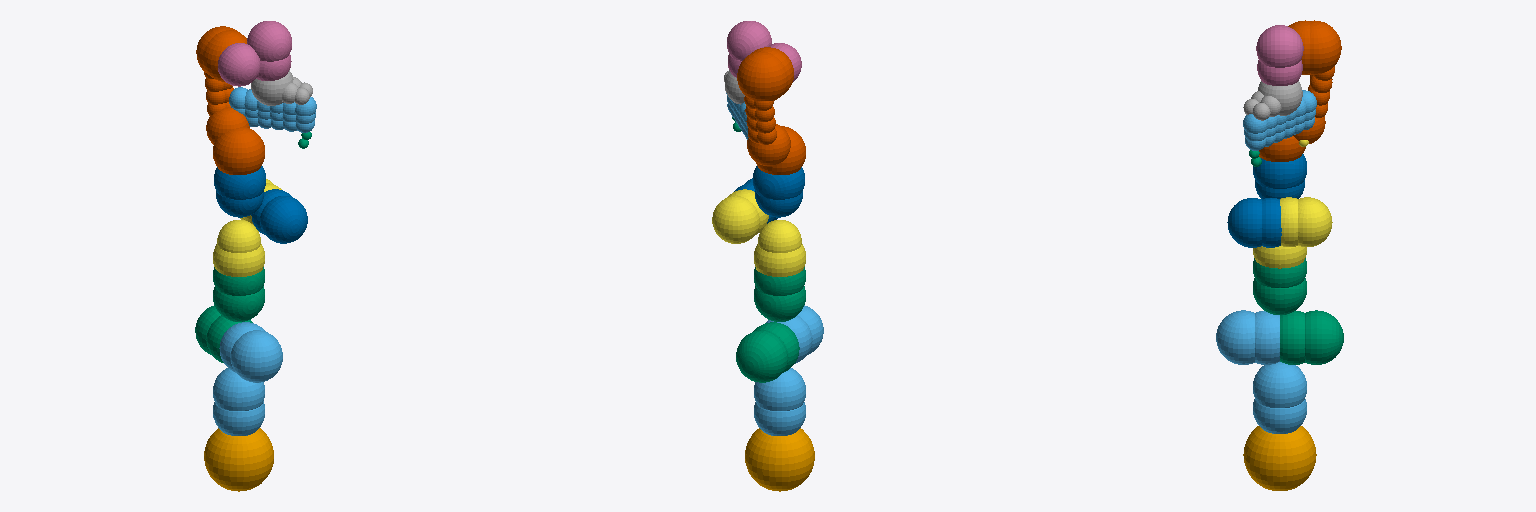
The robot description file, URDF, robot "panda":
<?xml version='1.0' encoding='utf-8'?>
<robot name="panda" path="assets/panda/panda.urdf">
	<link name="panda_link0">
		<inertial>
			<origin rpy="0 0 0" xyz="0 0 0.05" />
			<mass value="2.9" />
			<inertia ixx="0.1" ixy="0" ixz="0" iyy="0.1" iyz="0" izz="0.1" />
		</inertial>
		<collision>
			<geometry>
				<sphere radius="0.08" />
			</geometry>
			<origin xyz="0.0 0.0 0.05" rpy="0 0 0" />
		</collision>
	<visual name="panda_link0_visual_1">
			<geometry>
				<sphere radius="0.08" />
			</geometry>
			<origin xyz="0.0 0.0 0.05" rpy="0 0 0" />
		</visual>
	</link>
	<link name="panda_link1">
		<inertial>
			<origin rpy="0 0 0" xyz="0 -0.04 -0.05" />
			<mass value="2.7" />
			<inertia ixx="0.1" ixy="0" ixz="0" iyy="0.1" iyz="0" izz="0.1" />
		</inertial>
		<collision>
			<geometry>
				<sphere radius="0.06" />
			</geometry>
			<origin xyz="0.0 -0.08 0.0" rpy="0 0 0" />
		</collision>
		<collision>
			<geometry>
				<sphere radius="0.06" />
			</geometry>
			<origin xyz="0.0 -0.03 0.0" rpy="0 0 0" />
		</collision>
		<collision>
			<geometry>
				<sphere radius="0.06" />
			</geometry>
			<origin xyz="0.0 0.0 -0.12" rpy="0 0 0" />
		</collision>
		<collision>
			<geometry>
				<sphere radius="0.06" />
			</geometry>
			<origin xyz="0.0 0.0 -0.17" rpy="0 0 0" />
		</collision>
	<visual name="panda_link1_visual_1">
			<geometry>
				<sphere radius="0.06" />
			</geometry>
			<origin xyz="0.0 -0.08 0.0" rpy="0 0 0" />
		</visual>
		<visual name="panda_link1_visual_2">
			<geometry>
				<sphere radius="0.06" />
			</geometry>
			<origin xyz="0.0 -0.03 0.0" rpy="0 0 0" />
		</visual>
		<visual name="panda_link1_visual_3">
			<geometry>
				<sphere radius="0.06" />
			</geometry>
			<origin xyz="0.0 0.0 -0.12" rpy="0 0 0" />
		</visual>
		<visual name="panda_link1_visual_4">
			<geometry>
				<sphere radius="0.06" />
			</geometry>
			<origin xyz="0.0 0.0 -0.17" rpy="0 0 0" />
		</visual>
	</link>
	<link name="panda_link2">
		<inertial>
			<origin rpy="0 0 0" xyz="0 -0.04 0.06" />
			<mass value="2.73" />
			<inertia ixx="0.1" ixy="0" ixz="0" iyy="0.1" iyz="0" izz="0.1" />
		</inertial>
		<collision>
			<geometry>
				<sphere radius="0.06" />
			</geometry>
			<origin xyz="0.0 0.0 0.03" rpy="0 0 0" />
		</collision>
		<collision>
			<geometry>
				<sphere radius="0.06" />
			</geometry>
			<origin xyz="0.0 0.0 0.08" rpy="0 0 0" />
		</collision>
		<collision>
			<geometry>
				<sphere radius="0.06" />
			</geometry>
			<origin xyz="0.0 -0.12 0.0" rpy="0 0 0" />
		</collision>
		<collision>
			<geometry>
				<sphere radius="0.06" />
			</geometry>
			<origin xyz="0.0 -0.17 0.0" rpy="0 0 0" />
		</collision>
	<visual name="panda_link2_visual_1">
			<geometry>
				<sphere radius="0.06" />
			</geometry>
			<origin xyz="0.0 0.0 0.03" rpy="0 0 0" />
		</visual>
		<visual name="panda_link2_visual_2">
			<geometry>
				<sphere radius="0.06" />
			</geometry>
			<origin xyz="0.0 0.0 0.08" rpy="0 0 0" />
		</visual>
		<visual name="panda_link2_visual_3">
			<geometry>
				<sphere radius="0.06" />
			</geometry>
			<origin xyz="0.0 -0.12 0.0" rpy="0 0 0" />
		</visual>
		<visual name="panda_link2_visual_4">
			<geometry>
				<sphere radius="0.06" />
			</geometry>
			<origin xyz="0.0 -0.17 0.0" rpy="0 0 0" />
		</visual>
	</link>
	<link name="panda_link3">
		<inertial>
			<origin rpy="0 0 0" xyz="0.01 0.01 -0.05" />
			<mass value="2.04" />
			<inertia ixx="0.1" ixy="0" ixz="0" iyy="0.1" iyz="0" izz="0.1" />
		</inertial>
		<collision>
			<geometry>
				<sphere radius="0.06" />
			</geometry>
			<origin xyz="0.0 0.0 -0.1" rpy="0 0 0" />
		</collision>
		<collision>
			<geometry>
				<sphere radius="0.05" />
			</geometry>
			<origin xyz="0.0 0.0 -0.06" rpy="0 0 0" />
		</collision>
		<collision>
			<geometry>
				<sphere radius="0.055" />
			</geometry>
			<origin xyz="0.08 0.06 0.0" rpy="0 0 0" />
		</collision>
		<collision>
			<geometry>
				<sphere radius="0.055" />
			</geometry>
			<origin xyz="0.08 0.02 0.0" rpy="0 0 0" />
		</collision>
	<visual name="panda_link3_visual_1">
			<geometry>
				<sphere radius="0.06" />
			</geometry>
			<origin xyz="0.0 0.0 -0.1" rpy="0 0 0" />
		</visual>
		<visual name="panda_link3_visual_2">
			<geometry>
				<sphere radius="0.05" />
			</geometry>
			<origin xyz="0.0 0.0 -0.06" rpy="0 0 0" />
		</visual>
		<visual name="panda_link3_visual_3">
			<geometry>
				<sphere radius="0.055" />
			</geometry>
			<origin xyz="0.08 0.06 0.0" rpy="0 0 0" />
		</visual>
		<visual name="panda_link3_visual_4">
			<geometry>
				<sphere radius="0.055" />
			</geometry>
			<origin xyz="0.08 0.02 0.0" rpy="0 0 0" />
		</visual>
	</link>
	<link name="panda_link4">
		<inertial>
			<origin rpy="0 0 0" xyz="-0.03 0.03 0.02" />
			<mass value="2.08" />
			<inertia ixx="0.1" ixy="0" ixz="0" iyy="0.1" iyz="0" izz="0.1" />
		</inertial>
		<collision>
			<geometry>
				<sphere radius="0.06" />
			</geometry>
			<origin xyz="-0.08 0.095 0.0" rpy="0 0 0" />
		</collision>
		<collision>
			<geometry>
				<sphere radius="0.055" />
			</geometry>
			<origin xyz="0.0 0.0 0.02" rpy="0 0 0" />
		</collision>
		<collision>
			<geometry>
				<sphere radius="0.055" />
			</geometry>
			<origin xyz="0.0 0.0 0.06" rpy="0 0 0" />
		</collision>
		<collision>
			<geometry>
				<sphere radius="0.055" />
			</geometry>
			<origin xyz="-0.08 0.06 0.0" rpy="0 0 0" />
		</collision>
	<visual name="panda_link4_visual_1">
			<geometry>
				<sphere radius="0.06" />
			</geometry>
			<origin xyz="-0.08 0.095 0.0" rpy="0 0 0" />
		</visual>
		<visual name="panda_link4_visual_2">
			<geometry>
				<sphere radius="0.055" />
			</geometry>
			<origin xyz="0.0 0.0 0.02" rpy="0 0 0" />
		</visual>
		<visual name="panda_link4_visual_3">
			<geometry>
				<sphere radius="0.055" />
			</geometry>
			<origin xyz="0.0 0.0 0.06" rpy="0 0 0" />
		</visual>
		<visual name="panda_link4_visual_4">
			<geometry>
				<sphere radius="0.055" />
			</geometry>
			<origin xyz="-0.08 0.06 0.0" rpy="0 0 0" />
		</visual>
	</link>
	<link name="panda_link5">
		<inertial>
			<origin rpy="0 0 0" xyz="0 0.04 -0.12" />
			<mass value="3" />
			<inertia ixx="0.1" ixy="0" ixz="0" iyy="0.1" iyz="0" izz="0.1" />
		</inertial>
		<collision>
			<geometry>
				<sphere radius="0.06" />
			</geometry>
			<origin xyz="0.0 0.055 0.0" rpy="0 0 0" />
		</collision>
		<collision>
			<geometry>
				<sphere radius="0.06" />
			</geometry>
			<origin xyz="0.0 0.075 0.0" rpy="0 0 0" />
		</collision>
		<collision>
			<geometry>
				<sphere radius="0.06" />
			</geometry>
			<origin xyz="0.0 0.0 -0.22" rpy="0 0 0" />
		</collision>
		<collision>
			<geometry>
				<sphere radius="0.05" />
			</geometry>
			<origin xyz="0.0 0.05 -0.18" rpy="0 0 0" />
		</collision>
		<collision>
			<geometry>
				<sphere radius="0.025" />
			</geometry>
			<origin xyz="0.01 0.08 -0.14" rpy="0 0 0" />
		</collision>
		<collision>
			<geometry>
				<sphere radius="0.025" />
			</geometry>
			<origin xyz="0.01 0.085 -0.11" rpy="0 0 0" />
		</collision>
		<collision>
			<geometry>
				<sphere radius="0.025" />
			</geometry>
			<origin xyz="0.01 0.09 -0.08" rpy="0 0 0" />
		</collision>
		<collision>
			<geometry>
				<sphere radius="0.025" />
			</geometry>
			<origin xyz="0.01 0.095 -0.05" rpy="0 0 0" />
		</collision>
		<collision>
			<geometry>
				<sphere radius="0.025" />
			</geometry>
			<origin xyz="-0.01 0.08 -0.14" rpy="0 0 0" />
		</collision>
		<collision>
			<geometry>
				<sphere radius="0.025" />
			</geometry>
			<origin xyz="-0.01 0.085 -0.11" rpy="0 0 0" />
		</collision>
		<collision>
			<geometry>
				<sphere radius="0.025" />
			</geometry>
			<origin xyz="-0.01 0.09 -0.08" rpy="0 0 0" />
		</collision>
		<collision>
			<geometry>
				<sphere radius="0.025" />
			</geometry>
			<origin xyz="-0.01 0.095 -0.05" rpy="0 0 0" />
		</collision>
	<visual name="panda_link5_visual_1">
			<geometry>
				<sphere radius="0.06" />
			</geometry>
			<origin xyz="0.0 0.055 0.0" rpy="0 0 0" />
		</visual>
		<visual name="panda_link5_visual_2">
			<geometry>
				<sphere radius="0.06" />
			</geometry>
			<origin xyz="0.0 0.075 0.0" rpy="0 0 0" />
		</visual>
		<visual name="panda_link5_visual_3">
			<geometry>
				<sphere radius="0.06" />
			</geometry>
			<origin xyz="0.0 0.0 -0.22" rpy="0 0 0" />
		</visual>
		<visual name="panda_link5_visual_4">
			<geometry>
				<sphere radius="0.05" />
			</geometry>
			<origin xyz="0.0 0.05 -0.18" rpy="0 0 0" />
		</visual>
		<visual name="panda_link5_visual_5">
			<geometry>
				<sphere radius="0.025" />
			</geometry>
			<origin xyz="0.01 0.08 -0.14" rpy="0 0 0" />
		</visual>
		<visual name="panda_link5_visual_6">
			<geometry>
				<sphere radius="0.025" />
			</geometry>
			<origin xyz="0.01 0.085 -0.11" rpy="0 0 0" />
		</visual>
		<visual name="panda_link5_visual_7">
			<geometry>
				<sphere radius="0.025" />
			</geometry>
			<origin xyz="0.01 0.09 -0.08" rpy="0 0 0" />
		</visual>
		<visual name="panda_link5_visual_8">
			<geometry>
				<sphere radius="0.025" />
			</geometry>
			<origin xyz="0.01 0.095 -0.05" rpy="0 0 0" />
		</visual>
		<visual name="panda_link5_visual_9">
			<geometry>
				<sphere radius="0.025" />
			</geometry>
			<origin xyz="-0.01 0.08 -0.14" rpy="0 0 0" />
		</visual>
		<visual name="panda_link5_visual_10">
			<geometry>
				<sphere radius="0.025" />
			</geometry>
			<origin xyz="-0.01 0.085 -0.11" rpy="0 0 0" />
		</visual>
		<visual name="panda_link5_visual_11">
			<geometry>
				<sphere radius="0.025" />
			</geometry>
			<origin xyz="-0.01 0.09 -0.08" rpy="0 0 0" />
		</visual>
		<visual name="panda_link5_visual_12">
			<geometry>
				<sphere radius="0.025" />
			</geometry>
			<origin xyz="-0.01 0.095 -0.05" rpy="0 0 0" />
		</visual>
	</link>
	<link name="panda_link6">
		<inertial>
			<origin rpy="0 0 0" xyz="0.04 0 0" />
			<mass value="1.3" />
			<inertia ixx="0.1" ixy="0" ixz="0" iyy="0.1" iyz="0" izz="0.1" />
		</inertial>
		<collision>
			<geometry>
				<sphere radius="0.05" />
			</geometry>
			<origin xyz="0.0 0.0 0.0" rpy="0 0 0" />
		</collision>
		<collision>
			<geometry>
				<sphere radius="0.05" />
			</geometry>
			<origin xyz="0.08 -0.01 0.0" rpy="0 0 0" />
		</collision>
		<collision>
			<geometry>
				<sphere radius="0.052" />
			</geometry>
			<origin xyz="0.08 0.035 0.0" rpy="0 0 0" />
		</collision>
	<visual name="panda_link6_visual_1">
			<geometry>
				<sphere radius="0.05" />
			</geometry>
			<origin xyz="0.0 0.0 0.0" rpy="0 0 0" />
		</visual>
		<visual name="panda_link6_visual_2">
			<geometry>
				<sphere radius="0.05" />
			</geometry>
			<origin xyz="0.08 -0.01 0.0" rpy="0 0 0" />
		</visual>
		<visual name="panda_link6_visual_3">
			<geometry>
				<sphere radius="0.052" />
			</geometry>
			<origin xyz="0.08 0.035 0.0" rpy="0 0 0" />
		</visual>
	</link>
	<link name="panda_link7">
		<inertial>
			<origin rpy="0 0 0" xyz="0 0 0.08" />
			<mass value=".2" />
			<inertia ixx="0.1" ixy="0" ixz="0" iyy="0.1" iyz="0" izz="0.1" />
		</inertial>
		<collision>
			<geometry>
				<sphere radius="0.05" />
			</geometry>
			<origin xyz="0.0 0.0 0.07" rpy="0 0 0" />
		</collision>
		<collision>
			<geometry>
				<sphere radius="0.025" />
			</geometry>
			<origin xyz="0.02 0.04 0.08" rpy="0 0 0" />
		</collision>
		<collision>
			<geometry>
				<sphere radius="0.025" />
			</geometry>
			<origin xyz="0.04 0.02 0.08" rpy="0 0 0" />
		</collision>
		<collision>
			<geometry>
				<sphere radius="0.02" />
			</geometry>
			<origin xyz="0.04 0.06 0.085" rpy="0 0 0" />
		</collision>
		<collision>
			<geometry>
				<sphere radius="0.02" />
			</geometry>
			<origin xyz="0.06 0.04 0.085" rpy="0 0 0" />
		</collision>
	<visual name="panda_link7_visual_1">
			<geometry>
				<sphere radius="0.05" />
			</geometry>
			<origin xyz="0.0 0.0 0.07" rpy="0 0 0" />
		</visual>
		<visual name="panda_link7_visual_2">
			<geometry>
				<sphere radius="0.025" />
			</geometry>
			<origin xyz="0.02 0.04 0.08" rpy="0 0 0" />
		</visual>
		<visual name="panda_link7_visual_3">
			<geometry>
				<sphere radius="0.025" />
			</geometry>
			<origin xyz="0.04 0.02 0.08" rpy="0 0 0" />
		</visual>
		<visual name="panda_link7_visual_4">
			<geometry>
				<sphere radius="0.02" />
			</geometry>
			<origin xyz="0.04 0.06 0.085" rpy="0 0 0" />
		</visual>
		<visual name="panda_link7_visual_5">
			<geometry>
				<sphere radius="0.02" />
			</geometry>
			<origin xyz="0.06 0.04 0.085" rpy="0 0 0" />
		</visual>
	</link>
	<link name="panda_link8">
		<inertial>
			<origin rpy="0 0 0" xyz="0 0 0" />
			<mass value="0.0" />
			<inertia ixx="0.1" ixy="0" ixz="0" iyy="0.1" iyz="0" izz="0.1" />
		</inertial>
	</link>
	<link name="panda_hand">
		<inertial>
			<origin rpy="0 0 0" xyz="0 0 0.04" />
			<mass value=".81" />
			<inertia ixx="0.1" ixy="0" ixz="0" iyy="0.1" iyz="0" izz="0.1" />
		</inertial>
		<collision>
			<geometry>
				<sphere radius="0.028" />
			</geometry>
			<origin xyz="0.0 -0.075 0.01" rpy="0 0 0" />
		</collision>
		<collision>
			<geometry>
				<sphere radius="0.028" />
			</geometry>
			<origin xyz="0.0 -0.045 0.01" rpy="0 0 0" />
		</collision>
		<collision>
			<geometry>
				<sphere radius="0.028" />
			</geometry>
			<origin xyz="0.0 -0.015 0.01" rpy="0 0 0" />
		</collision>
		<collision>
			<geometry>
				<sphere radius="0.028" />
			</geometry>
			<origin xyz="0.0 0.015 0.01" rpy="0 0 0" />
		</collision>
		<collision>
			<geometry>
				<sphere radius="0.028" />
			</geometry>
			<origin xyz="0.0 0.045 0.01" rpy="0 0 0" />
		</collision>
		<collision>
			<geometry>
				<sphere radius="0.028" />
			</geometry>
			<origin xyz="0.0 0.075 0.01" rpy="0 0 0" />
		</collision>
		<collision>
			<geometry>
				<sphere radius="0.026" />
			</geometry>
			<origin xyz="0.0 -0.075 0.03" rpy="0 0 0" />
		</collision>
		<collision>
			<geometry>
				<sphere radius="0.026" />
			</geometry>
			<origin xyz="0.0 -0.045 0.03" rpy="0 0 0" />
		</collision>
		<collision>
			<geometry>
				<sphere radius="0.026" />
			</geometry>
			<origin xyz="0.0 -0.015 0.03" rpy="0 0 0" />
		</collision>
		<collision>
			<geometry>
				<sphere radius="0.026" />
			</geometry>
			<origin xyz="0.0 0.015 0.03" rpy="0 0 0" />
		</collision>
		<collision>
			<geometry>
				<sphere radius="0.026" />
			</geometry>
			<origin xyz="0.0 0.045 0.03" rpy="0 0 0" />
		</collision>
		<collision>
			<geometry>
				<sphere radius="0.026" />
			</geometry>
			<origin xyz="0.0 0.075 0.03" rpy="0 0 0" />
		</collision>
		<collision>
			<geometry>
				<sphere radius="0.024" />
			</geometry>
			<origin xyz="0.0 -0.075 0.05" rpy="0 0 0" />
		</collision>
		<collision>
			<geometry>
				<sphere radius="0.024" />
			</geometry>
			<origin xyz="0.0 -0.045 0.05" rpy="0 0 0" />
		</collision>
		<collision>
			<geometry>
				<sphere radius="0.024" />
			</geometry>
			<origin xyz="0.0 -0.015 0.05" rpy="0 0 0" />
		</collision>
		<collision>
			<geometry>
				<sphere radius="0.024" />
			</geometry>
			<origin xyz="0.0 0.015 0.05" rpy="0 0 0" />
		</collision>
		<collision>
			<geometry>
				<sphere radius="0.024" />
			</geometry>
			<origin xyz="0.0 0.045 0.05" rpy="0 0 0" />
		</collision>
		<collision>
			<geometry>
				<sphere radius="0.024" />
			</geometry>
			<origin xyz="0.0 0.075 0.05" rpy="0 0 0" />
		</collision>
	<visual name="panda_hand_visual_1">
			<geometry>
				<sphere radius="0.028" />
			</geometry>
			<origin xyz="0.0 -0.075 0.01" rpy="0 0 0" />
		</visual>
		<visual name="panda_hand_visual_2">
			<geometry>
				<sphere radius="0.028" />
			</geometry>
			<origin xyz="0.0 -0.045 0.01" rpy="0 0 0" />
		</visual>
		<visual name="panda_hand_visual_3">
			<geometry>
				<sphere radius="0.028" />
			</geometry>
			<origin xyz="0.0 -0.015 0.01" rpy="0 0 0" />
		</visual>
		<visual name="panda_hand_visual_4">
			<geometry>
				<sphere radius="0.028" />
			</geometry>
			<origin xyz="0.0 0.015 0.01" rpy="0 0 0" />
		</visual>
		<visual name="panda_hand_visual_5">
			<geometry>
				<sphere radius="0.028" />
			</geometry>
			<origin xyz="0.0 0.045 0.01" rpy="0 0 0" />
		</visual>
		<visual name="panda_hand_visual_6">
			<geometry>
				<sphere radius="0.028" />
			</geometry>
			<origin xyz="0.0 0.075 0.01" rpy="0 0 0" />
		</visual>
		<visual name="panda_hand_visual_7">
			<geometry>
				<sphere radius="0.026" />
			</geometry>
			<origin xyz="0.0 -0.075 0.03" rpy="0 0 0" />
		</visual>
		<visual name="panda_hand_visual_8">
			<geometry>
				<sphere radius="0.026" />
			</geometry>
			<origin xyz="0.0 -0.045 0.03" rpy="0 0 0" />
		</visual>
		<visual name="panda_hand_visual_9">
			<geometry>
				<sphere radius="0.026" />
			</geometry>
			<origin xyz="0.0 -0.015 0.03" rpy="0 0 0" />
		</visual>
		<visual name="panda_hand_visual_10">
			<geometry>
				<sphere radius="0.026" />
			</geometry>
			<origin xyz="0.0 0.015 0.03" rpy="0 0 0" />
		</visual>
		<visual name="panda_hand_visual_11">
			<geometry>
				<sphere radius="0.026" />
			</geometry>
			<origin xyz="0.0 0.045 0.03" rpy="0 0 0" />
		</visual>
		<visual name="panda_hand_visual_12">
			<geometry>
				<sphere radius="0.026" />
			</geometry>
			<origin xyz="0.0 0.075 0.03" rpy="0 0 0" />
		</visual>
		<visual name="panda_hand_visual_13">
			<geometry>
				<sphere radius="0.024" />
			</geometry>
			<origin xyz="0.0 -0.075 0.05" rpy="0 0 0" />
		</visual>
		<visual name="panda_hand_visual_14">
			<geometry>
				<sphere radius="0.024" />
			</geometry>
			<origin xyz="0.0 -0.045 0.05" rpy="0 0 0" />
		</visual>
		<visual name="panda_hand_visual_15">
			<geometry>
				<sphere radius="0.024" />
			</geometry>
			<origin xyz="0.0 -0.015 0.05" rpy="0 0 0" />
		</visual>
		<visual name="panda_hand_visual_16">
			<geometry>
				<sphere radius="0.024" />
			</geometry>
			<origin xyz="0.0 0.015 0.05" rpy="0 0 0" />
		</visual>
		<visual name="panda_hand_visual_17">
			<geometry>
				<sphere radius="0.024" />
			</geometry>
			<origin xyz="0.0 0.045 0.05" rpy="0 0 0" />
		</visual>
		<visual name="panda_hand_visual_18">
			<geometry>
				<sphere radius="0.024" />
			</geometry>
			<origin xyz="0.0 0.075 0.05" rpy="0 0 0" />
		</visual>
	</link>
	<link name="panda_leftfinger">
		<contact>
			<friction_anchor />
			<stiffness value="30000.0" />
			<damping value="1000.0" />
			<spinning_friction value="0.1" />
			<lateral_friction value="1.0" />
		</contact>
		<inertial>
			<origin rpy="0 0 0" xyz="0 0.01 0.02" />
			<mass value="0.1" />
			<inertia ixx="0.1" ixy="0" ixz="0" iyy="0.1" iyz="0" izz="0.1" />
		</inertial>
		<collision>
			<geometry>
				<sphere radius="0.012" />
			</geometry>
			<origin xyz="0.0 0.015 0.022" rpy="0 0 0" />
		</collision>
		<collision>
			<geometry>
				<sphere radius="0.012" />
			</geometry>
			<origin xyz="0.0 0.008 0.044" rpy="0 0 0" />
		</collision>
	<visual name="panda_leftfinger_visual_1">
			<geometry>
				<sphere radius="0.012" />
			</geometry>
			<origin xyz="0.0 0.015 0.022" rpy="0 0 0" />
		</visual>
		<visual name="panda_leftfinger_visual_2">
			<geometry>
				<sphere radius="0.012" />
			</geometry>
			<origin xyz="0.0 0.008 0.044" rpy="0 0 0" />
		</visual>
	</link>
	<link name="panda_rightfinger">
		<contact>
			<friction_anchor />
			<stiffness value="30000.0" />
			<damping value="1000.0" />
			<spinning_friction value="0.1" />
			<lateral_friction value="1.0" />
		</contact>
		<inertial>
			<origin rpy="0 0 0" xyz="0 -0.01 0.02" />
			<mass value="0.1" />
			<inertia ixx="0.1" ixy="0" ixz="0" iyy="0.1" iyz="0" izz="0.1" />
		</inertial>
		<collision>
			<geometry>
				<sphere radius="0.012" />
			</geometry>
			<origin xyz="0.0 -0.015 0.022" rpy="0 0 0" />
		</collision>
		<collision>
			<geometry>
				<sphere radius="0.012" />
			</geometry>
			<origin xyz="0.0 -0.008 0.044" rpy="0 0 0" />
		</collision>
	<visual name="panda_rightfinger_visual_1">
			<geometry>
				<sphere radius="0.012" />
			</geometry>
			<origin xyz="0.0 -0.015 0.022" rpy="0 0 0" />
		</visual>
		<visual name="panda_rightfinger_visual_2">
			<geometry>
				<sphere radius="0.012" />
			</geometry>
			<origin xyz="0.0 -0.008 0.044" rpy="0 0 0" />
		</visual>
	</link>
	<link name="panda_grasptarget">
		<inertial>
			<origin rpy="0 0 0" xyz="0 0 0" />
			<mass value="0.0" />
			<inertia ixx="0.1" ixy="0" ixz="0" iyy="0.1" iyz="0" izz="0.1" />
		</inertial>
	</link>
	<joint name="panda_joint1" type="revolute">
		<safety_controller k_position="100.0" k_velocity="40.0" soft_lower_limit="-2.8973" soft_upper_limit="2.8973" />
		<origin rpy="0 0 0" xyz="0 0 0.333" />
		<parent link="panda_link0" />
		<child link="panda_link1" />
		<axis xyz="0 0 1" />
		<limit effort="87" lower="-2.9671" upper="2.9671" velocity="2.3925" />
	</joint>
	<joint name="panda_joint2" type="revolute">
		<safety_controller k_position="100.0" k_velocity="40.0" soft_lower_limit="-1.7628" soft_upper_limit="1.7628" />
		<origin rpy="-1.57079632679 0 0" xyz="0 0 0" />
		<parent link="panda_link1" />
		<child link="panda_link2" />
		<axis xyz="0 0 1" />
		<limit effort="87" lower="-1.8326" upper="1.8326" velocity="2.3925" />
	</joint>
	<joint name="panda_joint3" type="revolute">
		<safety_controller k_position="100.0" k_velocity="40.0" soft_lower_limit="-2.8973" soft_upper_limit="2.8973" />
		<origin rpy="1.57079632679 0 0" xyz="0 -0.316 0" />
		<parent link="panda_link2" />
		<child link="panda_link3" />
		<axis xyz="0 0 1" />
		<limit effort="87" lower="-2.9671" upper="2.9671" velocity="2.3925" />
	</joint>
	<joint name="panda_joint4" type="revolute">
		<safety_controller k_position="100.0" k_velocity="40.0" soft_lower_limit="-3.0718" soft_upper_limit="-0.0698" />
		<origin rpy="1.57079632679 0 0" xyz="0.0825 0 0" />
		<parent link="panda_link3" />
		<child link="panda_link4" />
		<axis xyz="0 0 1" />
		<limit effort="87" lower="-3.1416" upper="0.0873" velocity="2.3925" />
	</joint>
	<joint name="panda_joint5" type="revolute">
		<safety_controller k_position="100.0" k_velocity="40.0" soft_lower_limit="-2.8973" soft_upper_limit="2.8973" />
		<origin rpy="-1.57079632679 0 0" xyz="-0.0825 0.384 0" />
		<parent link="panda_link4" />
		<child link="panda_link5" />
		<axis xyz="0 0 1" />
		<limit effort="12" lower="-2.9671" upper="2.9671" velocity="2.8710" />
	</joint>
	<joint name="panda_joint6" type="revolute">
		<safety_controller k_position="100.0" k_velocity="40.0" soft_lower_limit="-0.0175" soft_upper_limit="3.7525" />
		<origin rpy="1.57079632679 0 0" xyz="0 0 0" />
		<parent link="panda_link5" />
		<child link="panda_link6" />
		<axis xyz="0 0 1" />
		<limit effort="12" lower="-0.0873" upper="3.8223" velocity="2.8710" />
	</joint>
	<joint name="panda_joint7" type="revolute">
		<safety_controller k_position="100.0" k_velocity="40.0" soft_lower_limit="-2.8973" soft_upper_limit="2.8973" />
		<origin rpy="1.57079632679 0 0" xyz="0.088 0 0" />
		<parent link="panda_link6" />
		<child link="panda_link7" />
		<axis xyz="0 0 1" />
		<limit effort="12" lower="-2.9671" upper="2.9671" velocity="2.8710" />
	</joint>
	<joint name="panda_joint8" type="fixed">
		<origin rpy="0 0 0" xyz="0 0 0.107" />
		<parent link="panda_link7" />
		<child link="panda_link8" />
		<axis xyz="0 0 0" />
	</joint>
	<joint name="panda_hand_joint" type="fixed">
		<parent link="panda_link8" />
		<child link="panda_hand" />
		<origin rpy="0 0 -0.785398163397" xyz="0 0 0" />
	</joint>
	<joint name="panda_finger_joint1" type="fixed">
		<parent link="panda_hand" />
		<child link="panda_leftfinger" />
		<origin rpy="0 0 0" xyz="0 0.065 0.0584" />
		<axis xyz="0 1 0" />
	</joint>
	<joint name="panda_finger_joint2" type="fixed">
		<parent link="panda_hand" />
		<child link="panda_rightfinger" />
		<origin rpy="0 0 0" xyz="0 -0.065 0.0584" />
		<axis xyz="0 -1 0" />
		<mimic joint="panda_finger_joint1" />
	</joint>
	<joint name="panda_grasptarget_hand" type="fixed">
		<parent link="panda_hand" />
		<child link="panda_grasptarget" />
		<origin rpy="0 0 0" xyz="0 0 0.105" />
	</joint>
</robot>

--- Render facts (derived) ---
The picture shows the robot from 3 angles, left to right: view 1: azimuth 30°, elevation 25°; view 2: azimuth 150°, elevation 25°; view 3: azimuth 270°, elevation 25°; orthographic projection.
Model panda with 13 links and 12 joints (7 revolute, 5 fixed), rooted at panda_link0, posed every joint at zero.
Links seen in each view (by area): view 1: panda_link1, panda_link5, panda_link4, panda_link6, panda_link0, panda_link2, panda_link3, panda_hand, panda_link7; view 2: panda_link5, panda_link2, panda_link3, panda_link1, panda_link0, panda_link4, panda_link6; view 3: panda_link1, panda_link2, panda_link4, panda_link5, panda_link0, panda_link3, panda_link6, panda_hand, panda_link7.
Link boxes in pixels (<box>): panda_link1: <box>213,322,282,435</box>; panda_link5: <box>196,26,264,174</box>; panda_link4: <box>214,166,307,243</box>; panda_link6: <box>218,21,291,86</box>; panda_link0: <box>204,428,273,491</box>; panda_link2: <box>195,267,264,362</box>; panda_link3: <box>213,179,281,276</box>; panda_hand: <box>229,87,316,132</box>; panda_link7: <box>251,70,312,105</box>; panda_link5: <box>737,47,805,174</box>; panda_link2: <box>736,267,805,382</box>; panda_link3: <box>712,189,805,276</box>; panda_link1: <box>754,305,823,435</box>; panda_link0: <box>745,428,814,491</box>; panda_link4: <box>734,166,804,223</box>; panda_link6: <box>727,21,801,81</box>; panda_link1: <box>1216,310,1306,433</box>; panda_link2: <box>1253,258,1343,364</box>; panda_link4: <box>1227,154,1306,247</box>; panda_link5: <box>1259,20,1341,161</box>; panda_link0: <box>1243,426,1316,490</box>; panda_link3: <box>1253,197,1332,268</box>; panda_link6: <box>1256,25,1303,85</box>; panda_hand: <box>1243,90,1316,150</box>; panda_link7: <box>1243,81,1302,120</box>.
Size in the robot's own frame: 0.249 by 0.28 by 1.15 metres.
Geometry: primitives only (box / cylinder / sphere), no mesh files.